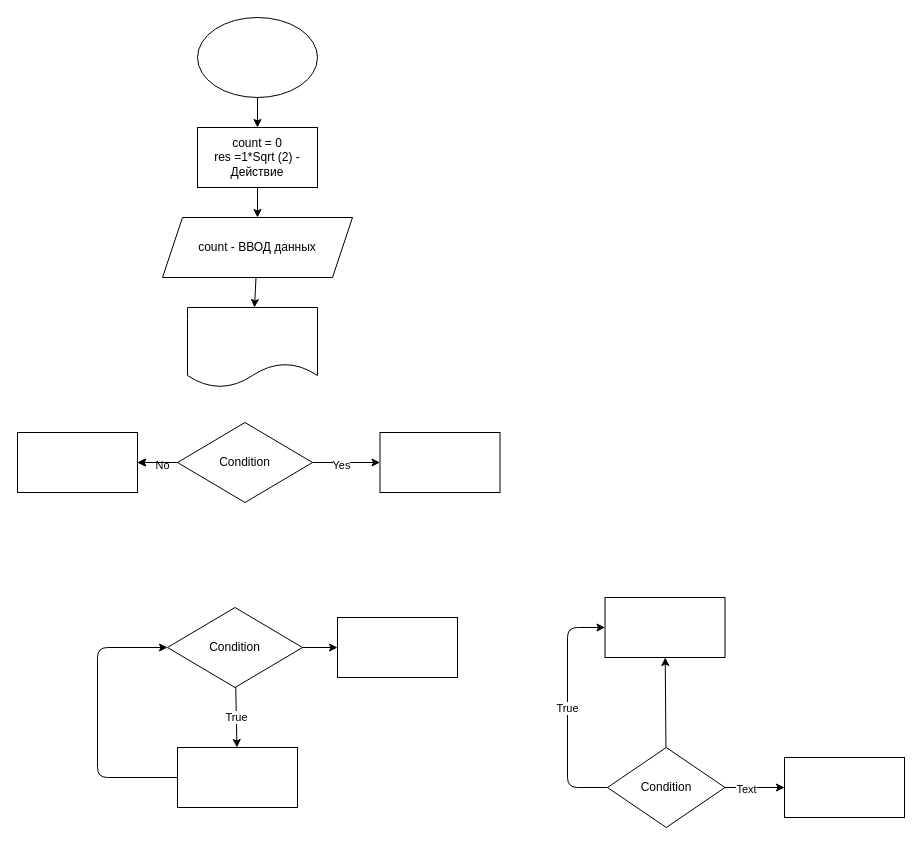
Some shapes in this 922 by 845 pixel diagram are drawn without their labels. The centre of each missing label's shape, as x and y in pixels:
res - ВЫВОД данных: (252,347)
START- начало и конец END алгоритма: (257,57)
Выход: (397,647)
